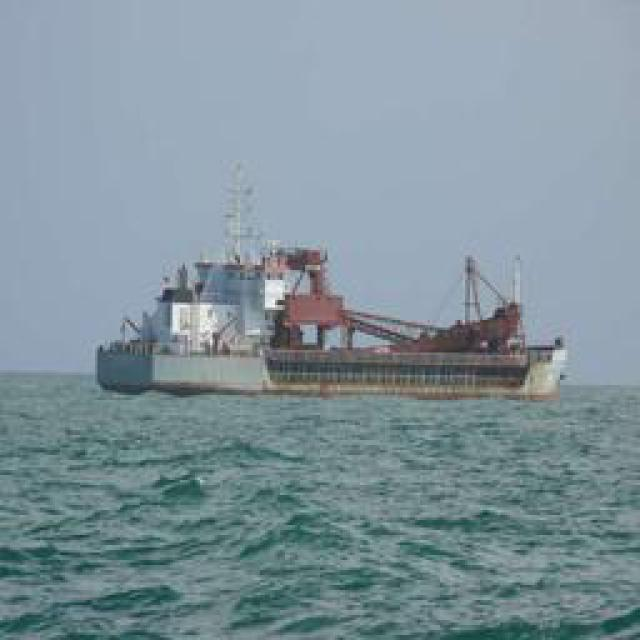Ship: (100, 238, 563, 403)
